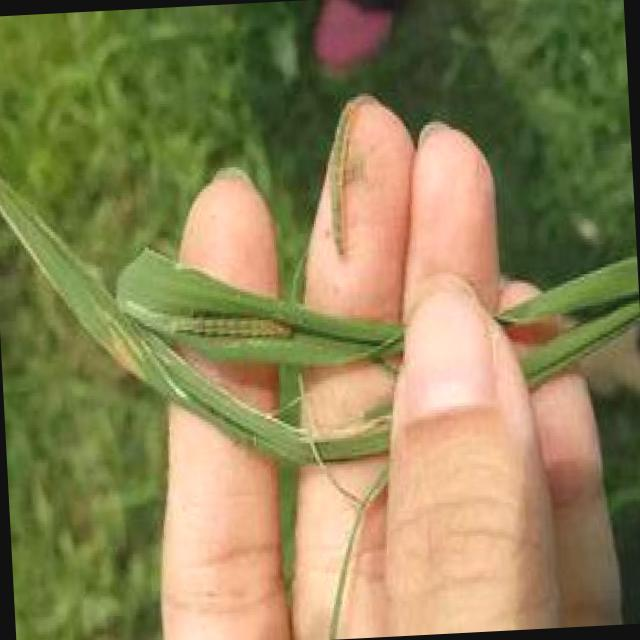leaf folder: (325, 96, 379, 254)
